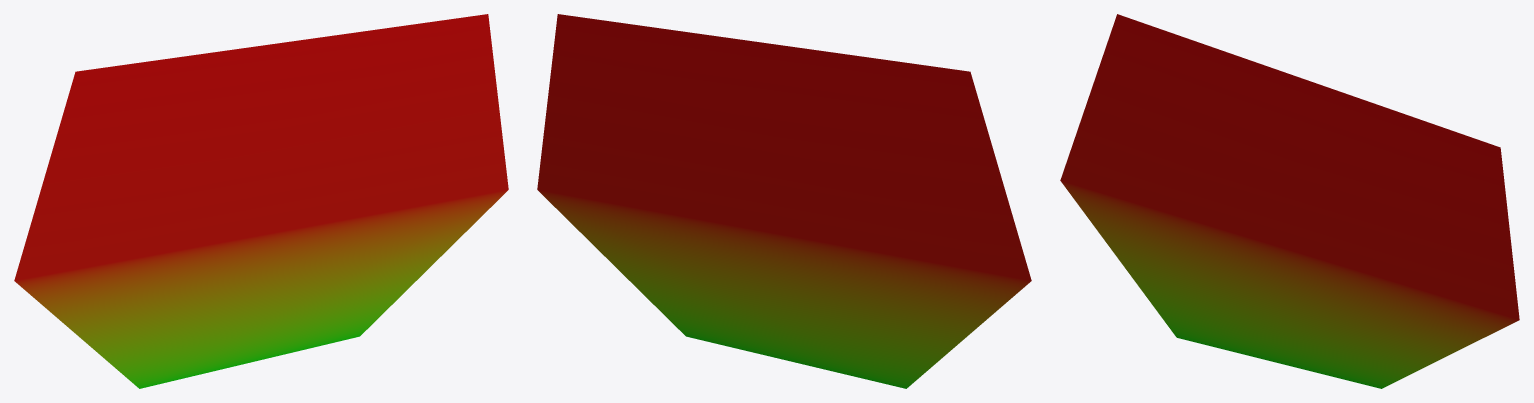
File: Common Hemp Nettle_LOD7_Var6_xh1kdfbqx.fbx
3 renders of one model, left to right at view 1: azimuth 30°, elevation 25°; view 2: azimuth 150°, elevation 25°; view 3: azimuth 330°, elevation 25°, orthographic. The views are drawn at different scales.
Parts seen in each view (by area): view 1: _vxea_Var6_LOD7; view 2: _vxea_Var6_LOD7; view 3: _vxea_Var6_LOD7.
Part boxes in pixels (x1,y1,x2,y2): _vxea_Var6_LOD7: [14, 14, 508, 388]; _vxea_Var6_LOD7: [537, 14, 1031, 388]; _vxea_Var6_LOD7: [1060, 14, 1519, 388].
Size of the model in its own units: 88.09 by 56.9 by 2.49e-06.
